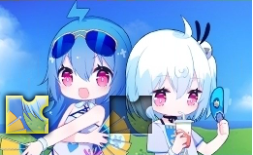w: (109, 95, 152, 134)
